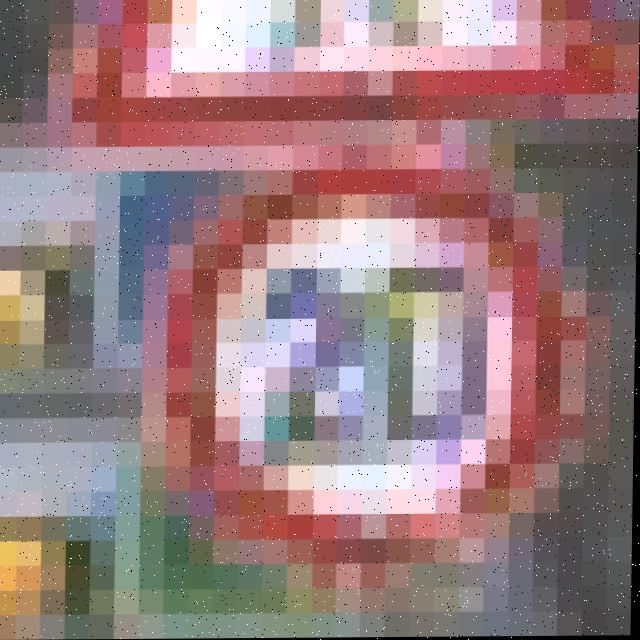speed_limit_20: (149, 151, 583, 592)
